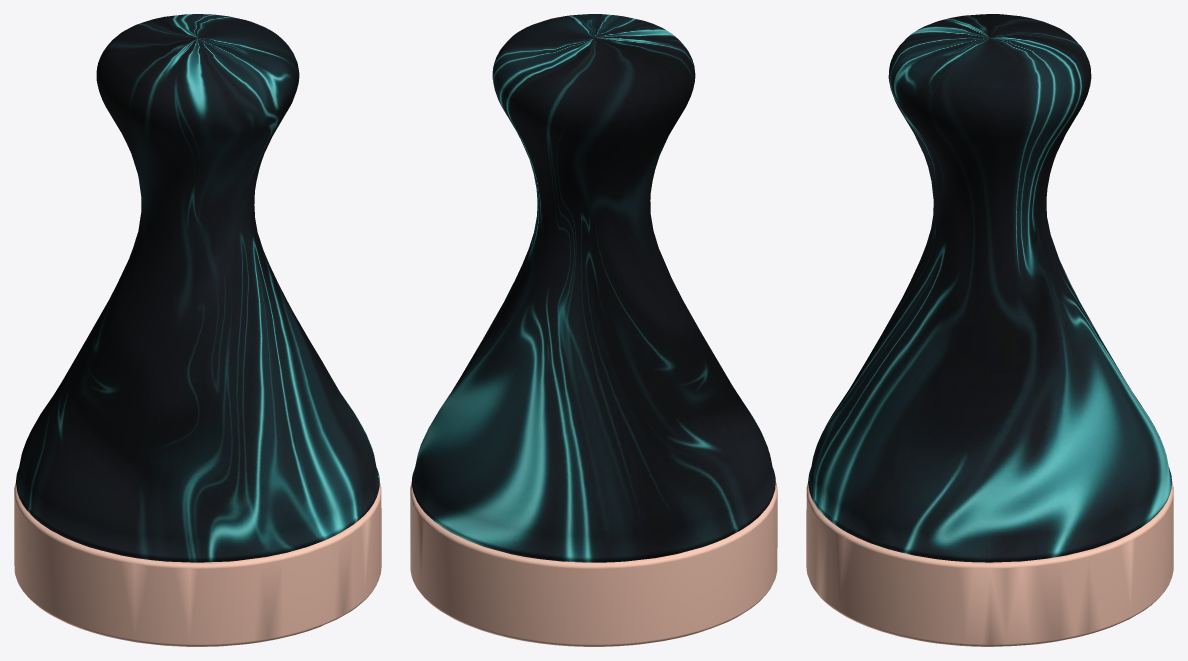
Rendered from pawn-black.glb.
3 views of the same model, side by side, from view 1: azimuth 30°, elevation 25°; view 2: azimuth 150°, elevation 25°; view 3: azimuth 270°, elevation 25° (orthographic).
Visible parts, largest first — view 1: pesec_cerna; view 2: pesec_cerna; view 3: pesec_cerna.
Part boxes in pixels (x1,y1,x2,y2): pesec_cerna: (14, 14, 381, 646); pesec_cerna: (410, 14, 777, 646); pesec_cerna: (806, 14, 1173, 646).
Size of the model in its own units: 0.6742 by 1.08 by 0.6744.
2 materials, 1 textured.
